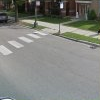crosswalk: (0, 30, 47, 55)
